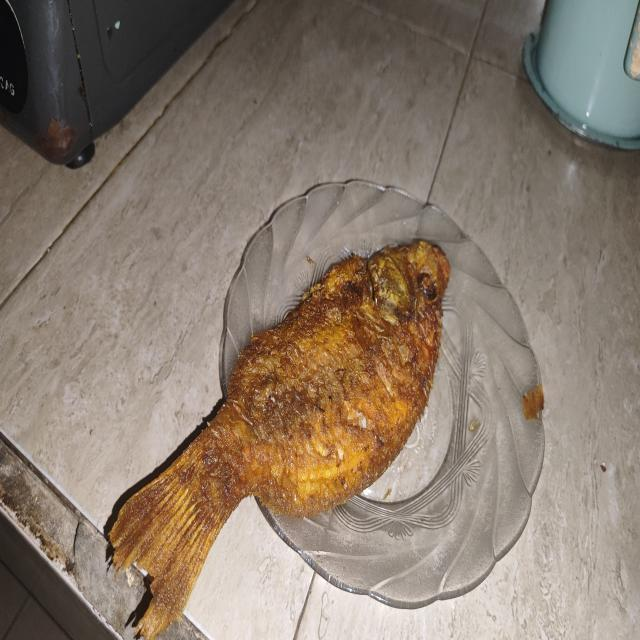ikan_mujair: (109, 240, 450, 640)
